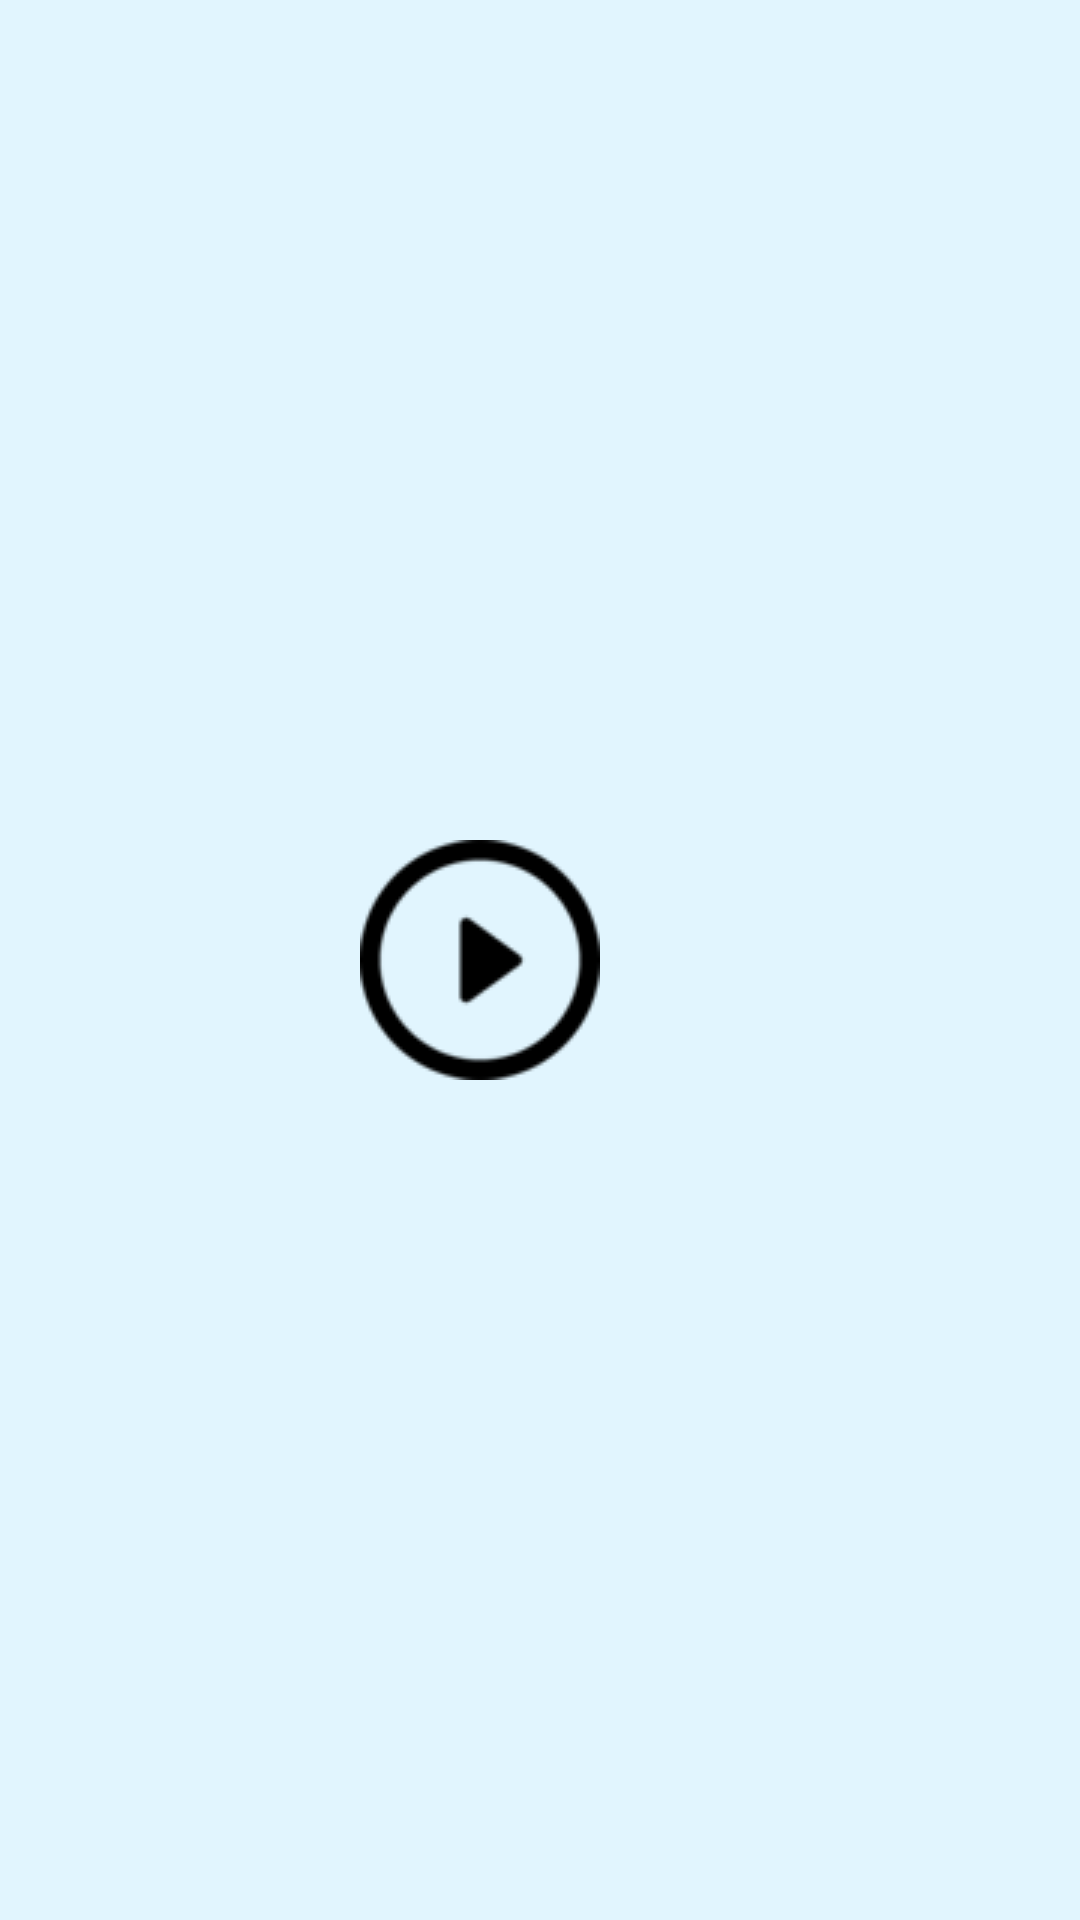

Locate icon controls on the screen. Image size 1080×1920, boxes as BBox(x1, y1, x2, y2).
play: BBox(360, 840, 600, 1080)
